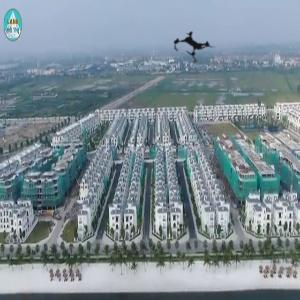drone: (162, 16, 225, 79)
